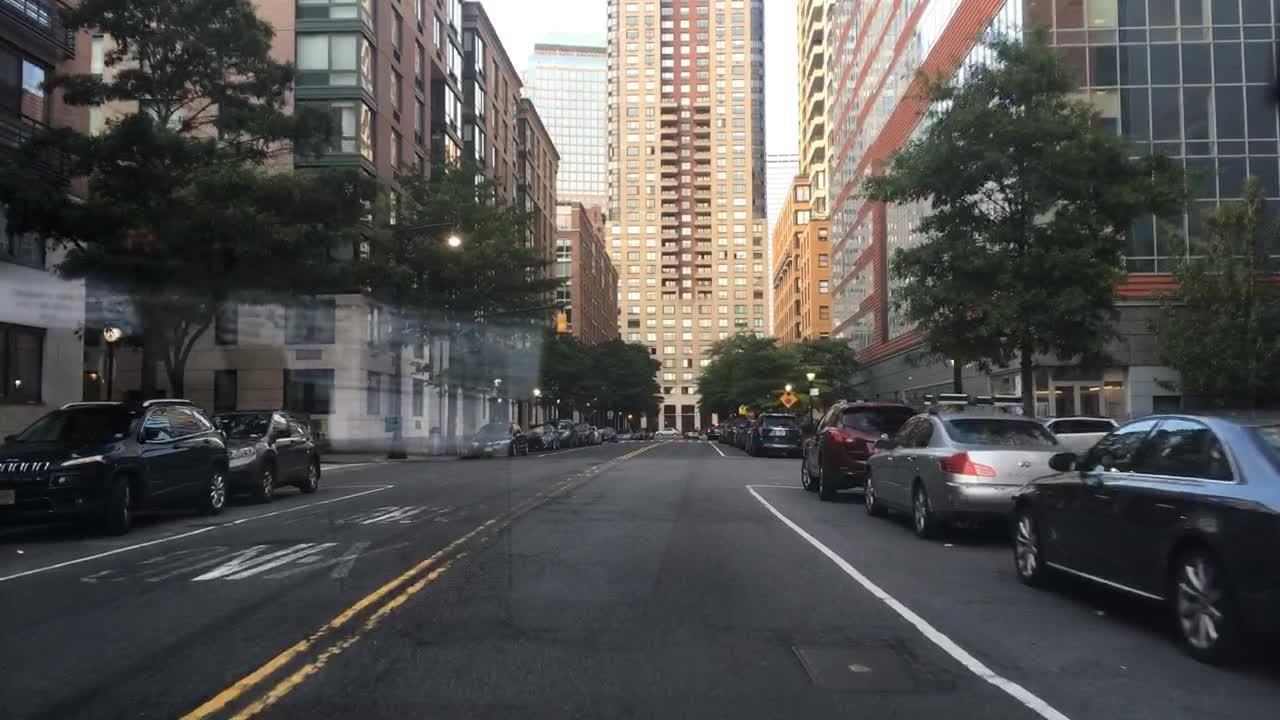Infiniti: (1016, 459, 1034, 471)
